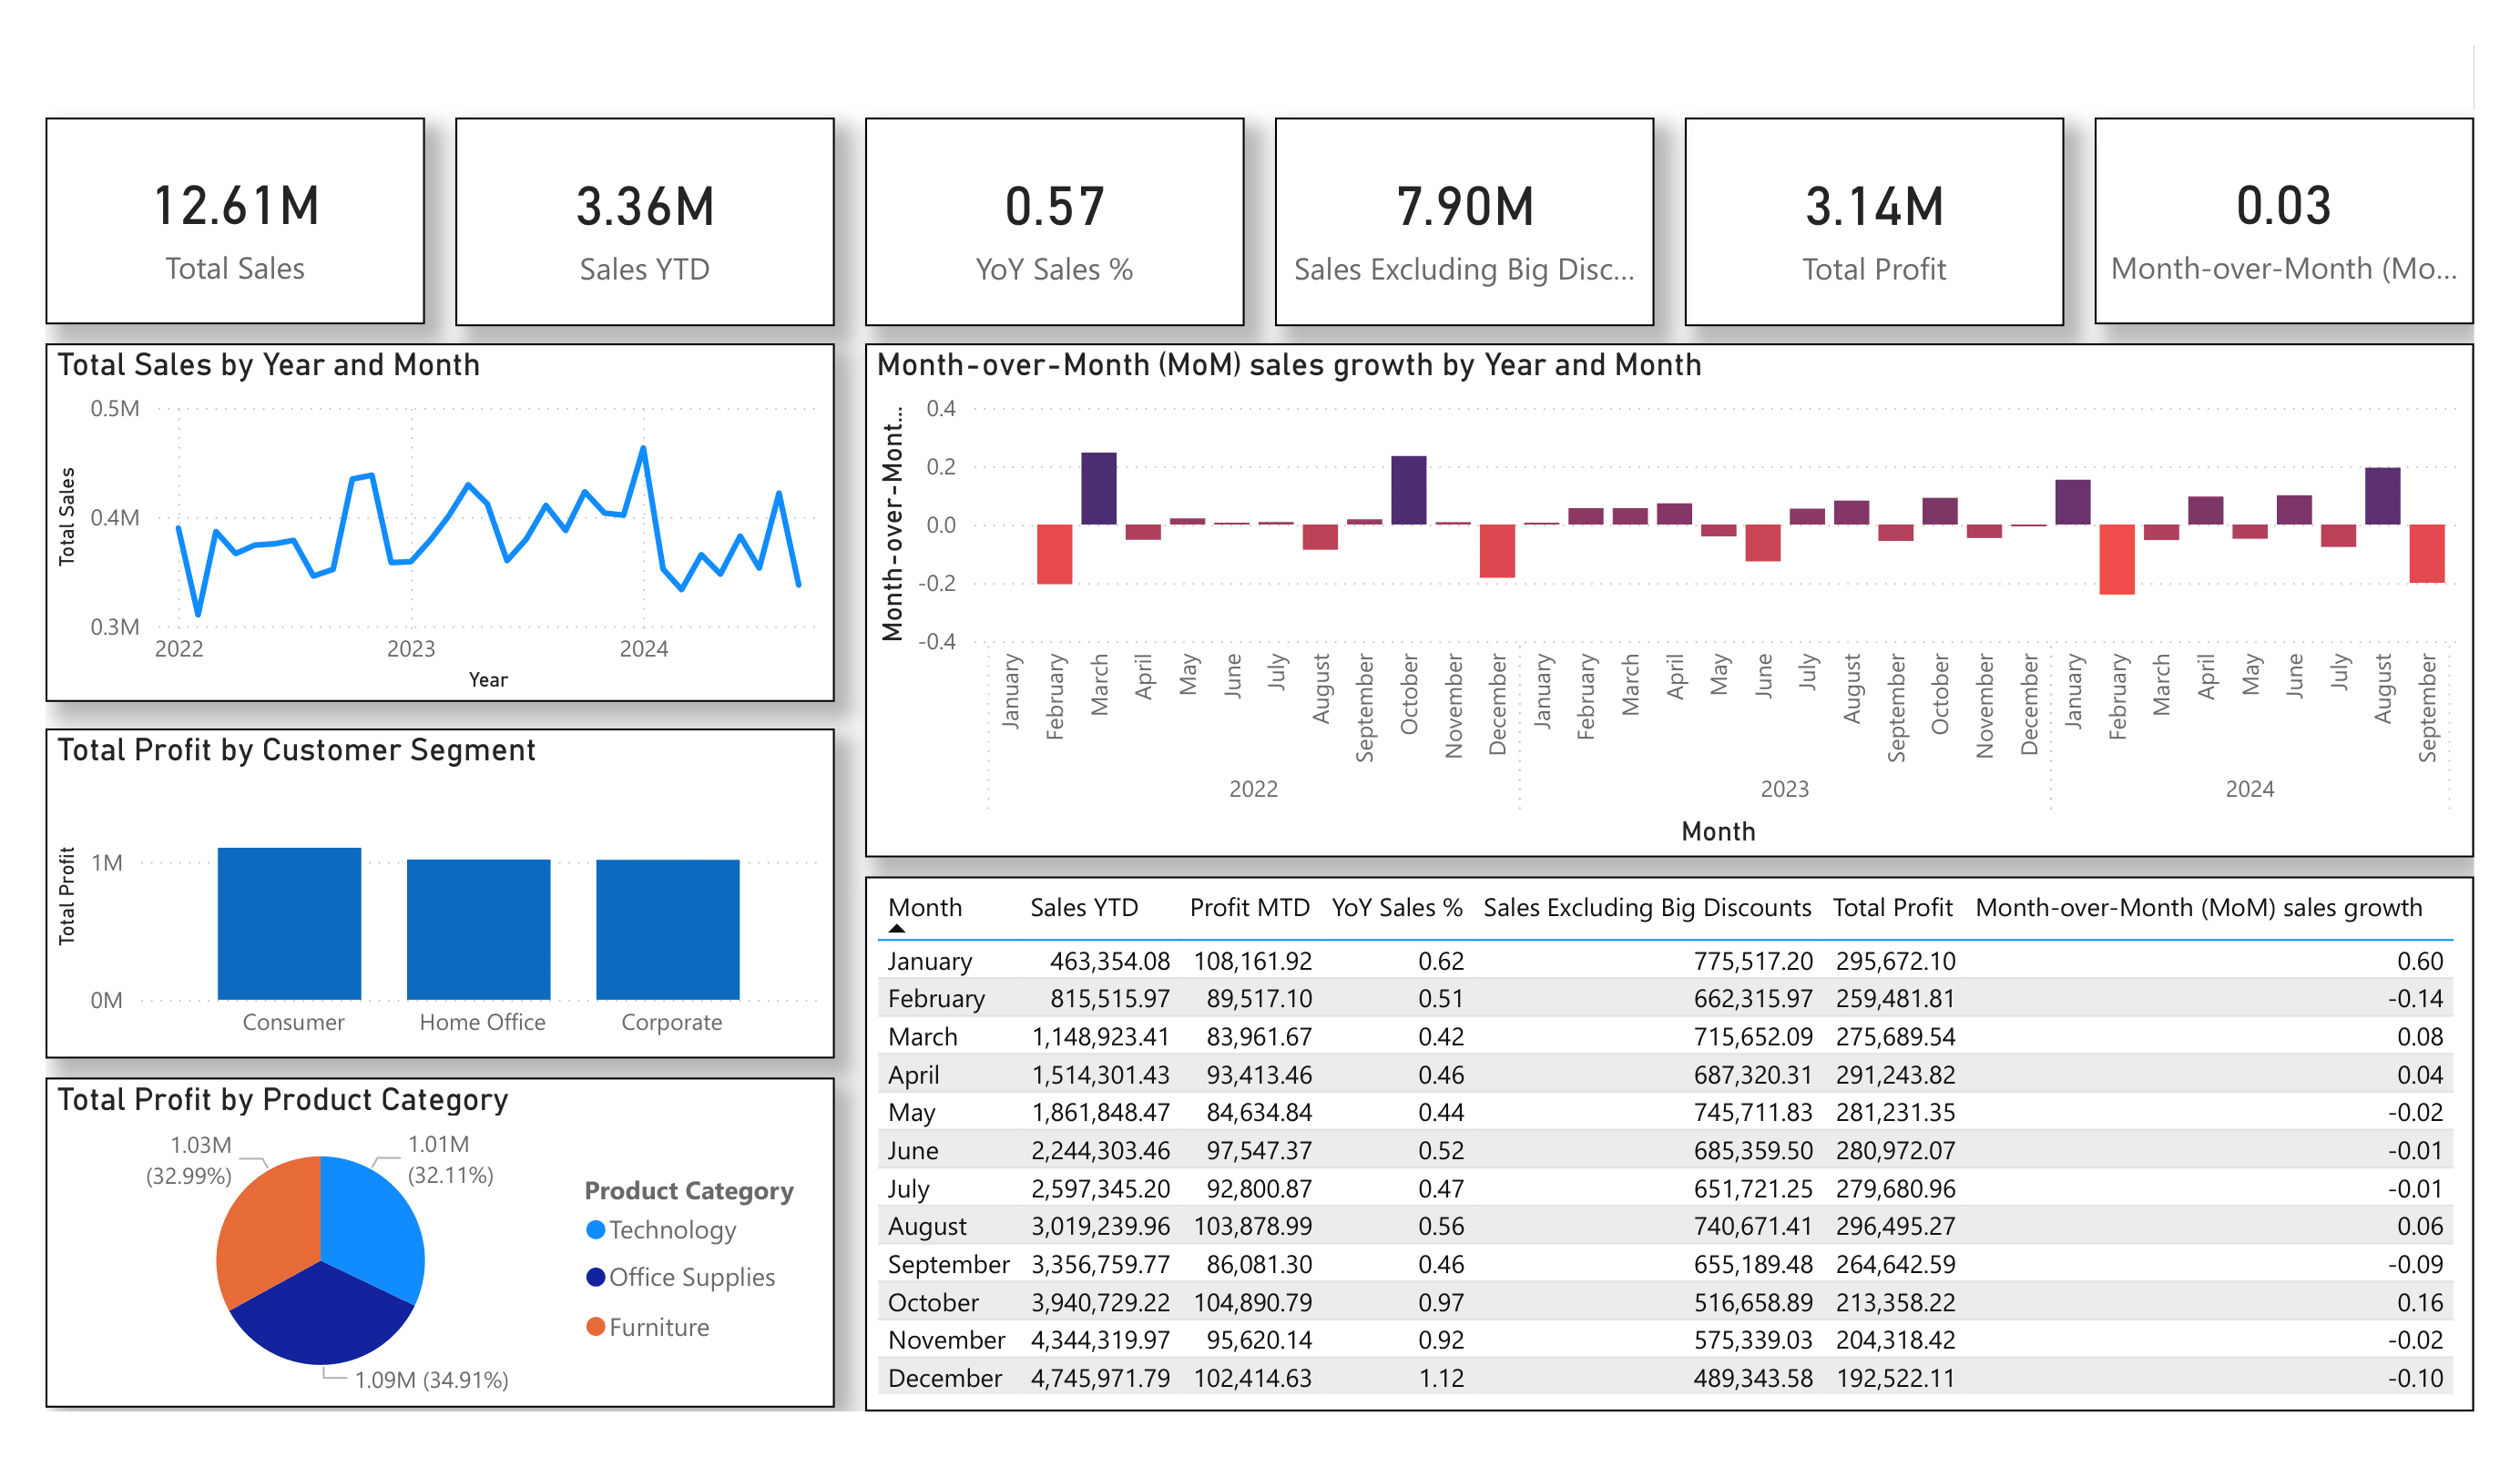

Layout of this report page (visuals, bound fields, positions):
{"tool":"powerbi","page":{"name":"Page 2","canvas":[1280,720],"ordinal":1},"visuals":[{"type":"card","fields":{"Values":["mesure.Total Sales"]},"box":[0,37.5,200.2,109.4],"z":0},{"type":"card","fields":{"Values":["mesure.Sales YTD"]},"box":[216.1,37.5,200,110],"z":1000},{"type":"card","fields":{"Values":["measure.YoY Sales %"]},"box":[432,37.5,200,110],"z":2000},{"type":"card","fields":{"Values":["measure.Month-over-Month (MoM) sales growth"]},"box":[1079.8,37.5,200.2,109.4],"z":3000},{"type":"card","fields":{"Values":["mesure.Total Profit"]},"box":[863.9,37.5,200,110],"z":4000},{"type":"card","fields":{"Values":["measure.Sales Excluding Big Discounts"]},"box":[648,37.5,200,110],"z":5000},{"type":"lineChart","fields":{"Category":["Date.Date.Variation.Date Hierarchy.Year","Date.Date.Variation.Date Hierarchy.Month","Date.Date.Variation.Date Hierarchy.Day"],"Y":["measure.Total Sales"]},"box":[0,157,416.2,188.6],"z":5001},{"type":"clusteredColumnChart","fields":{"Y":["measure.Total Profit"],"Category":["Customers.Customer Segment"]},"box":[0,360,416.2,174.2],"z":5002},{"type":"pieChart","fields":{"Category":["Products.Product Category"],"Y":["measure.Total Profit"]},"box":[0,544,416,174],"z":5003},{"type":"clusteredColumnChart","fields":{"Y":["measure.Month-over-Month (MoM) sales growth"],"Category":["Date.Date.Variation.Date Hierarchy.Year","Date.Date.Variation.Date Hierarchy.Month"]},"box":[432,157,848.2,270.7],"z":5004},{"type":"tableEx","fields":{"Values":["Date.Date.Variation.Date Hierarchy.Month","measure.Sales YTD","measure.Profit MTD","measure.YoY Sales %","measure.Sales Excluding Big Discounts","measure.Total Profit","measure.Month-over-Month (MoM) sales growth"]},"box":[432,437.8,848.2,282.2],"z":5005}]}

Visuals, with their boxes in screenshot pixels (x1, y1, x2, y2):
card - mesure.Total Sales: (left=46, top=117, right=421, bottom=321)
card - mesure.Sales YTD: (left=451, top=117, right=825, bottom=322)
card - measure.YoY Sales %: (left=855, top=117, right=1229, bottom=322)
card - measure.Month-over-Month (MoM) sales growth: (left=2068, top=117, right=2443, bottom=321)
card - mesure.Total Profit: (left=1664, top=117, right=2038, bottom=322)
card - measure.Sales Excluding Big Discounts: (left=1260, top=117, right=1634, bottom=322)
lineChart - Date.Date.Variation.Date Hierarchy.Year x Date.Date.Variation.Date Hierarchy.Month: (left=46, top=340, right=825, bottom=693)
clusteredColumnChart - measure.Total Profit x Customers.Customer Segment: (left=46, top=720, right=825, bottom=1046)
pieChart - Products.Product Category x measure.Total Profit: (left=46, top=1065, right=825, bottom=1391)
clusteredColumnChart - measure.Month-over-Month (MoM) sales growth x Date.Date.Variation.Date Hierarchy.Year: (left=855, top=340, right=2443, bottom=847)
tableEx - Date.Date.Variation.Date Hierarchy.Month x measure.Sales YTD: (left=855, top=866, right=2443, bottom=1394)
